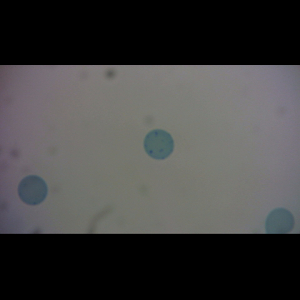erythrocyte: (265, 206, 295, 234)
punctate reticulocyte: (144, 128, 175, 160), (17, 175, 48, 206)
